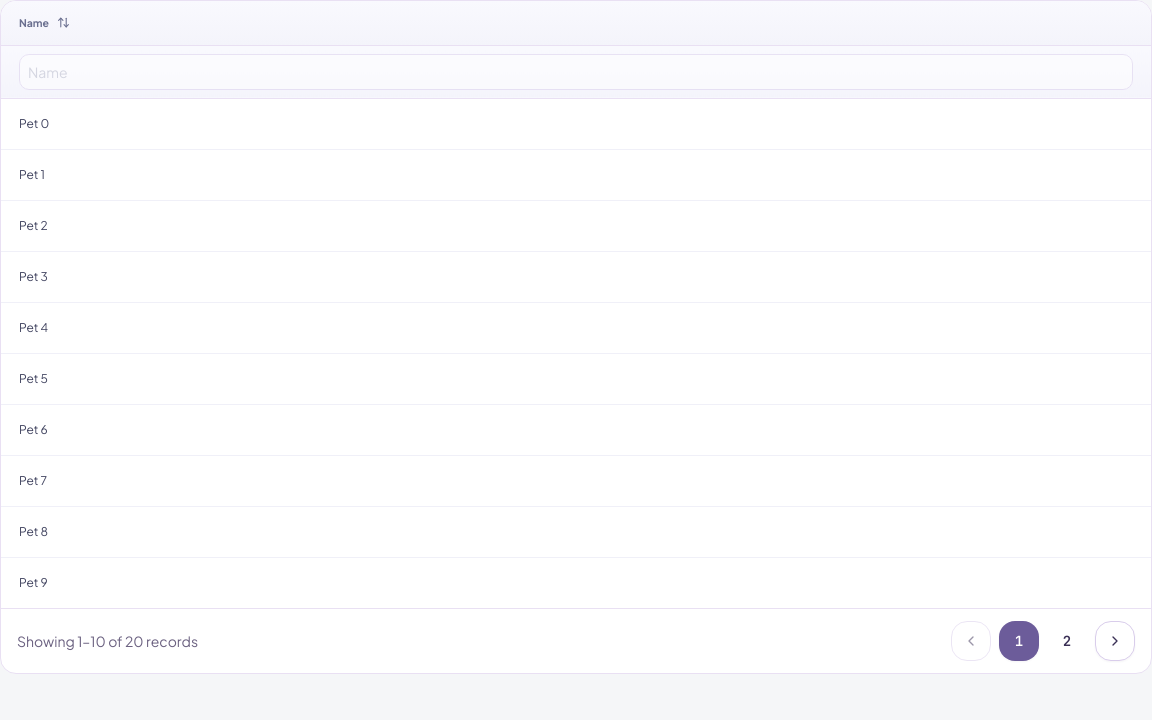
Test: DataTable › pages client-side by default
Click the button named "Next page".
click(1115, 641)  # box [1095,621,1135,661]
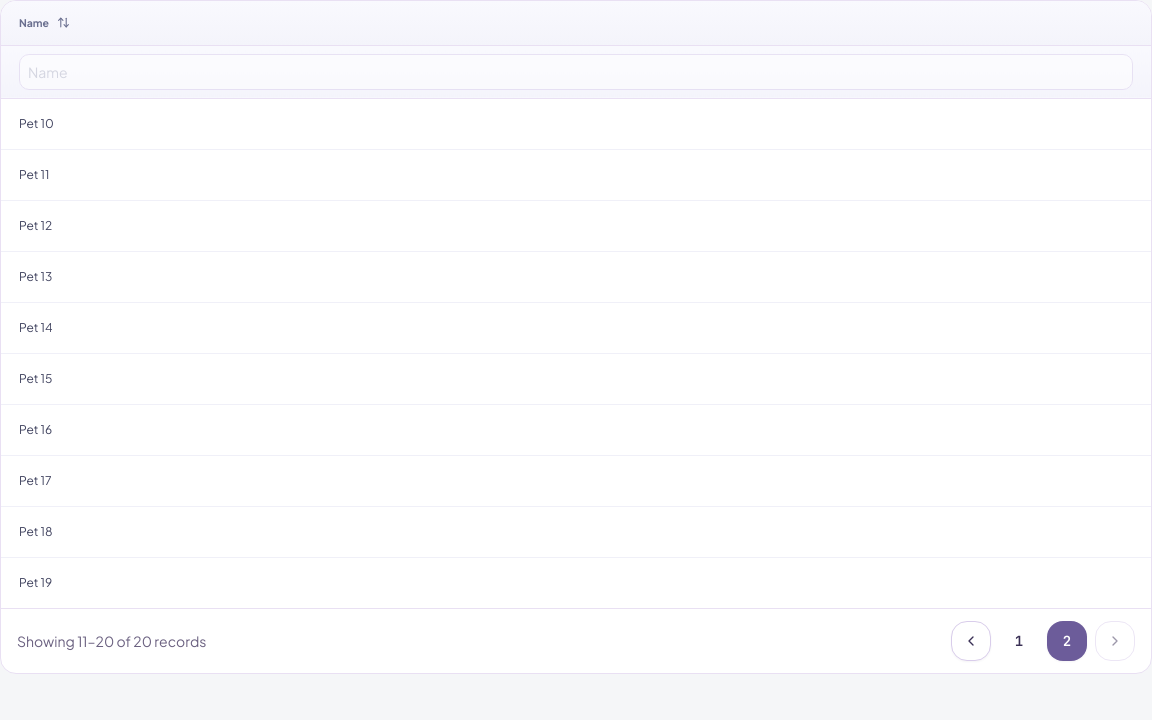
Now the text "Pet 10" is shown, box [1,98,1151,149]
